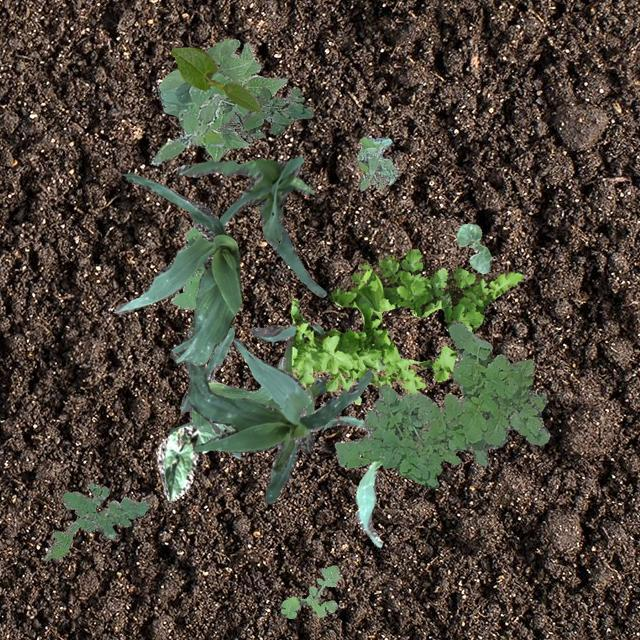crop: (168, 323, 328, 502), (183, 338, 371, 472), (115, 172, 242, 364), (176, 156, 326, 296), (156, 38, 286, 160), (180, 326, 284, 456), (323, 416, 381, 546), (170, 46, 260, 111), (154, 422, 226, 502), (456, 222, 490, 272)
weed: (334, 320, 548, 488), (290, 248, 522, 402), (44, 482, 148, 560), (150, 92, 224, 164), (218, 86, 312, 140), (278, 564, 340, 618), (170, 222, 203, 308), (356, 136, 396, 190)
